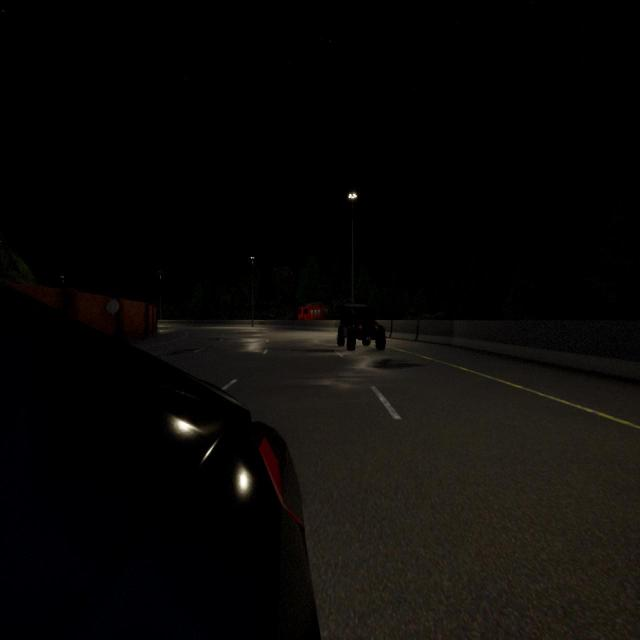Traffic_Signs: (105, 297, 122, 315)
Vehicle: (0, 287, 319, 640), (337, 304, 385, 350), (298, 302, 329, 321)
